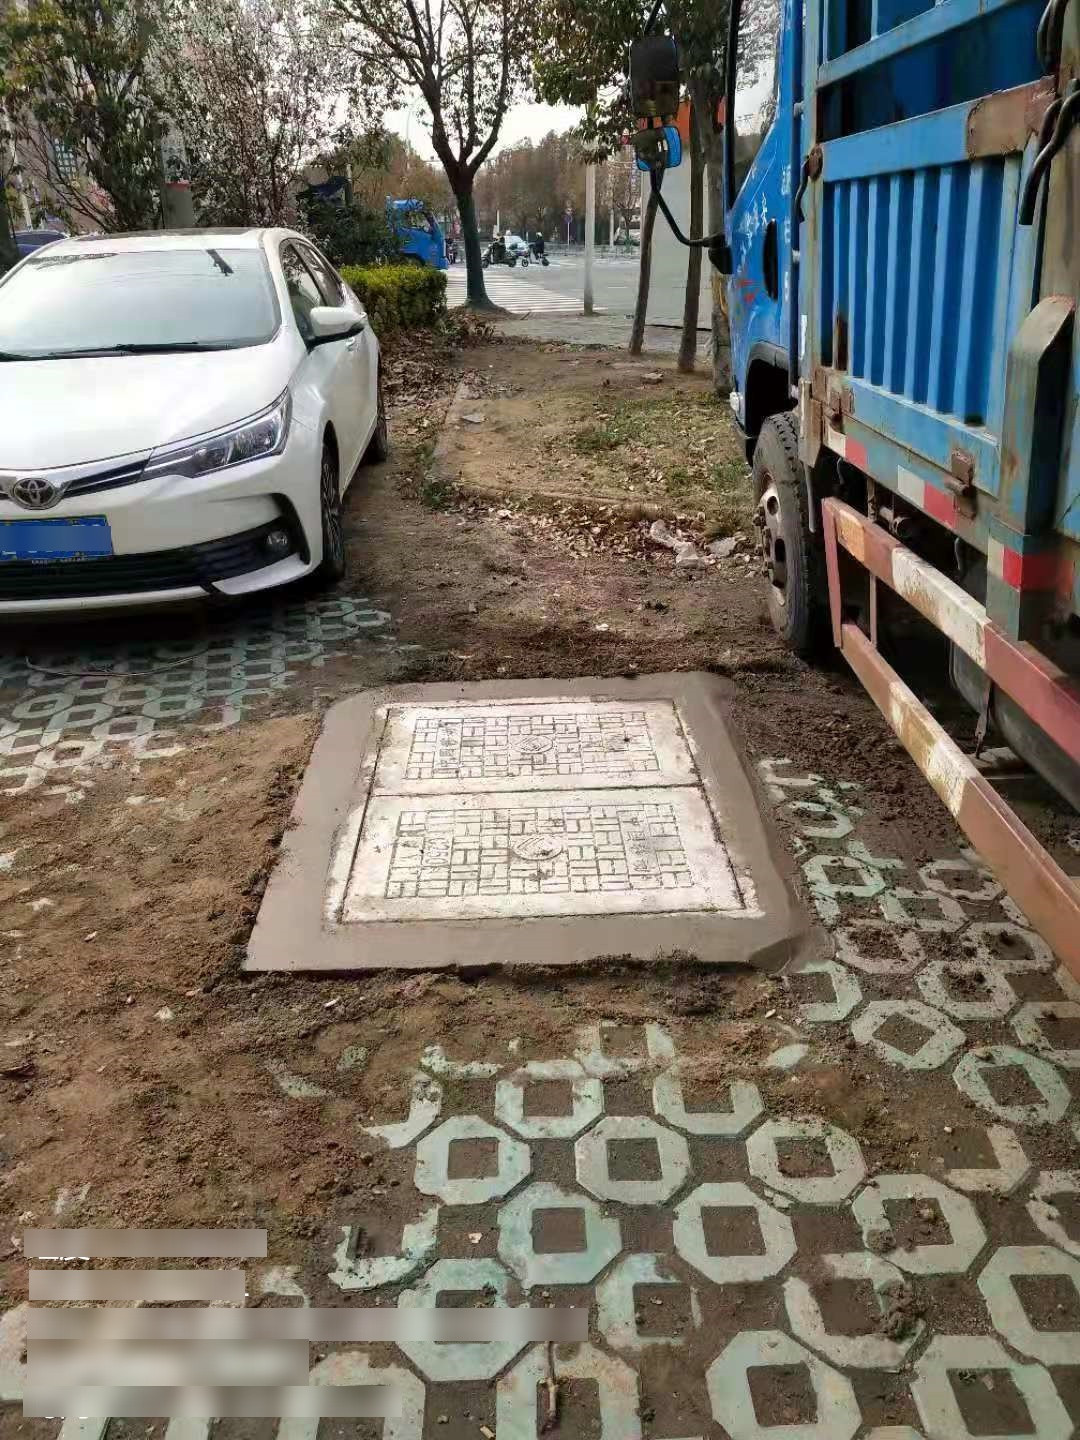good: (327, 692, 765, 926)
